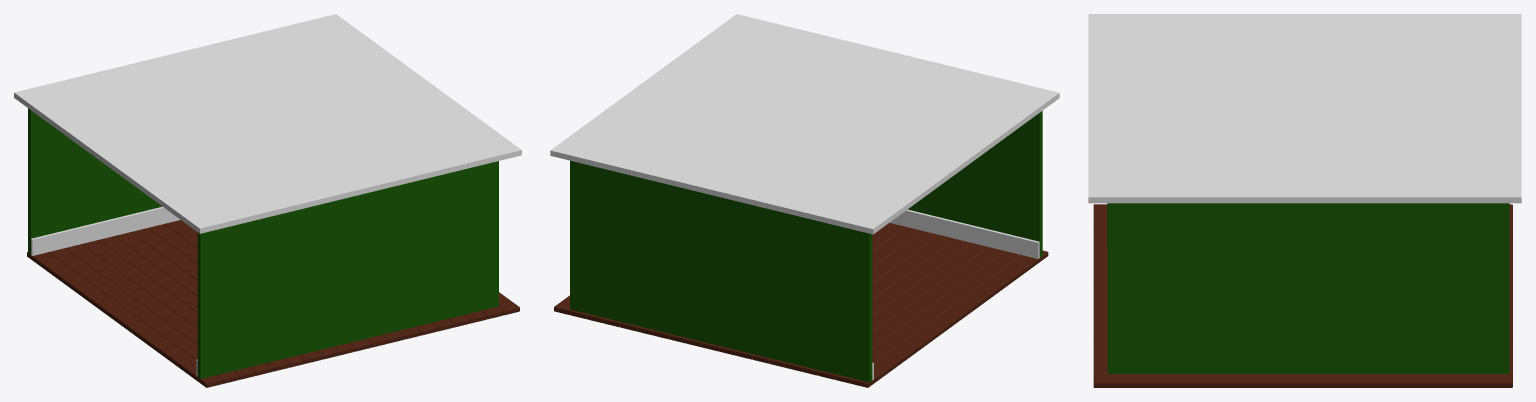
File: JammyRoomTest.glb
3 renders of one model, left to right at view 1: azimuth 30°, elevation 25°; view 2: azimuth 150°, elevation 25°; view 3: azimuth 270°, elevation 25°, orthographic. The views are drawn at different scales.
Visible parts, largest first — view 1: Ceiling, RightWall, Floor, LeftWall; view 2: Ceiling, LeftWall, Floor, RightWall; view 3: Ceiling, FrontWall, Floor.
Boxes of the visible parts, box(x1,y1,x2,y2) form: Ceiling: box(14, 14, 521, 233); RightWall: box(196, 161, 498, 378); Floor: box(27, 220, 519, 387); LeftWall: box(28, 108, 180, 255); Ceiling: box(550, 14, 1059, 234); LeftWall: box(570, 160, 873, 382); Floor: box(554, 223, 1048, 387); RightWall: box(889, 111, 1042, 258); Ceiling: box(1088, 14, 1521, 203); FrontWall: box(1107, 203, 1509, 373); Floor: box(1093, 204, 1512, 387).
Bounding box in the file's own units: 34.06 × 16.5 × 34.
